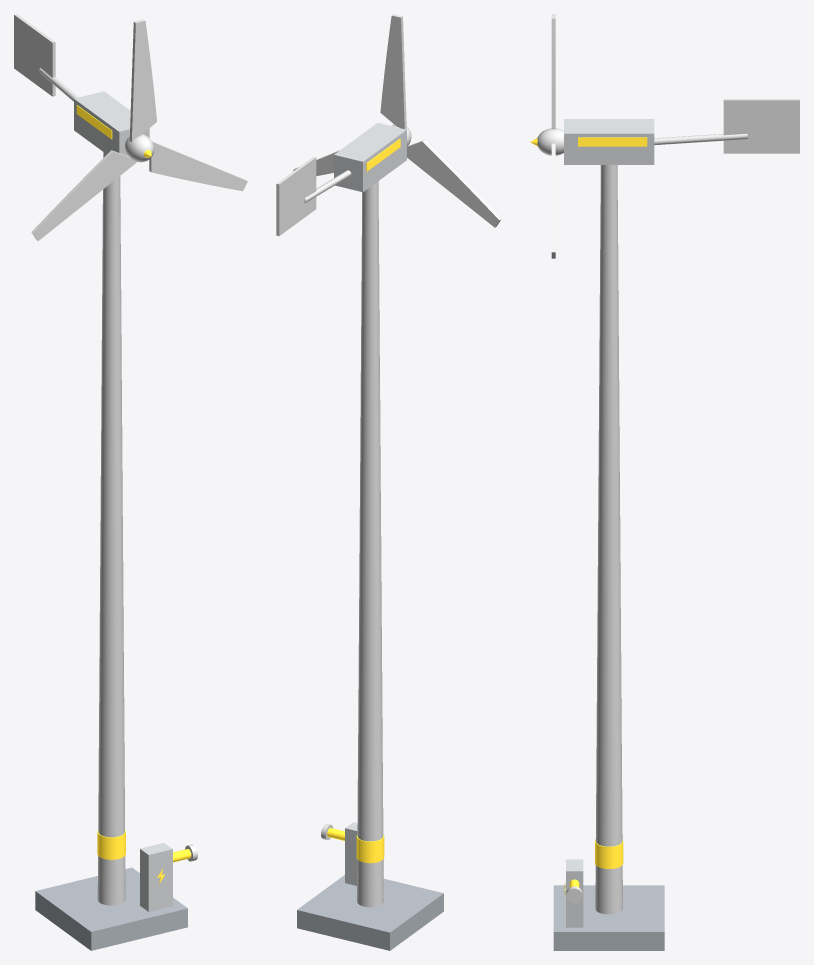
File: Wind-small.glb
3 renders of one model, left to right at view 1: azimuth 30°, elevation 25°; view 2: azimuth 150°, elevation 25°; view 3: azimuth 270°, elevation 25°, orthographic. The views are drawn at different scales.
Parts seen in each view (by area): view 1: mast, blade (×3), plinth, nacelle, tail_fin, box, band, hub; view 2: mast, plinth, blade (×2), nacelle, tail_fin, box, band; view 3: mast, plinth, tail_fin, nacelle, band (×2), blade (×2), box, tail_boom, hub.
Boxes of the visible parts, x1,y1,x2,y2 form: mast: (97,152,125,905); blade (×3): (31,19,247,240); plinth: (35,867,187,950); nacelle: (74,91,149,156); tail_fin: (14,14,55,96); box: (140,843,172,911); band: (97,830,125,859); hub: (125,134,154,162); mast: (357,181,383,907); plinth: (297,875,443,950); blade (×2): (380,14,501,227); nacelle: (334,123,406,192); tail_fin: (276,156,316,236); box: (345,822,357,885); band: (356,834,384,863); mast: (595,165,622,914); plinth: (553,885,664,950); tail_fin: (723,99,799,153); nacelle: (564,119,654,164); band (×2): (578,137,647,868); blade (×2): (551,14,555,258); box: (566,859,583,927); tail_boom: (654,133,747,145); hub: (537,128,563,155).
Bounding box in the file's own units: 3.54 × 14.5 × 3.89.
